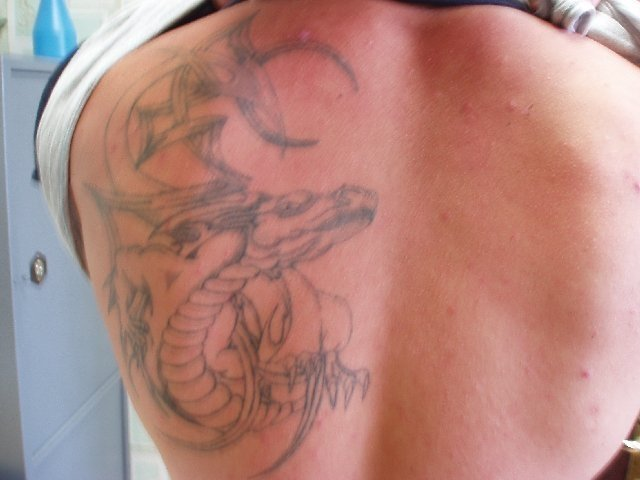tatu6_drakon: (57, 6, 378, 459)
